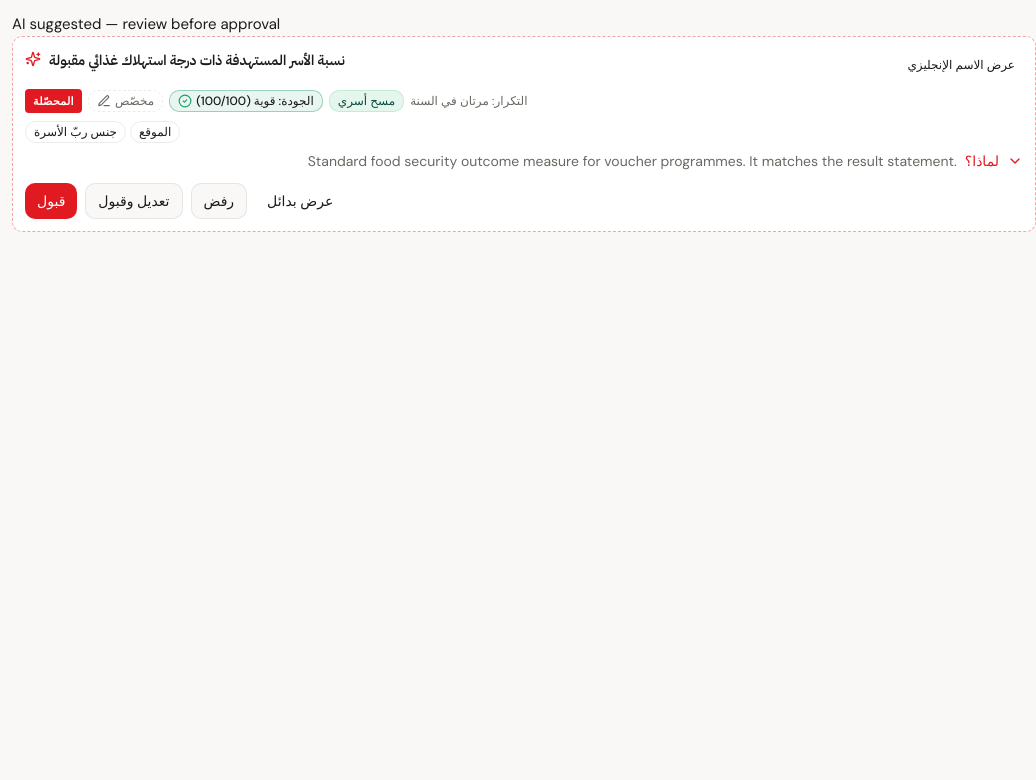
Test: KpiSuggestionCard › names a standard threshold, a pending baseline, a custom reason, and notes English text in Arabic
This screenshot has width=1036, height=780.
Click the button "لماذا؟" at (994, 161), box x1=965 y1=151 x2=1023 y2=171
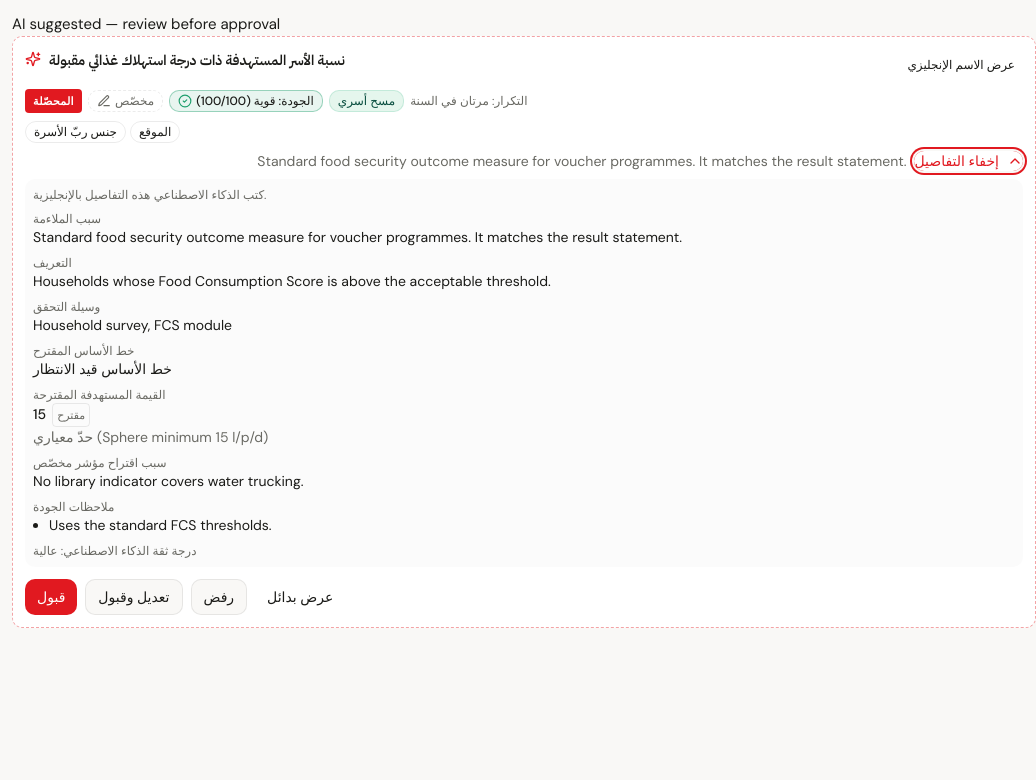
Check: the text "خط الأساس قيد الانتظار" is shown, box x1=33 y1=360 x2=172 y2=378
Check: the text "حدّ معياري (Sphere minimum 15 l/p/d)" is shown, box x1=33 y1=428 x2=268 y2=446
Check: the text "سبب اقتراح مؤشر مخصّص" is shown, box x1=33 y1=455 x2=167 y2=471
